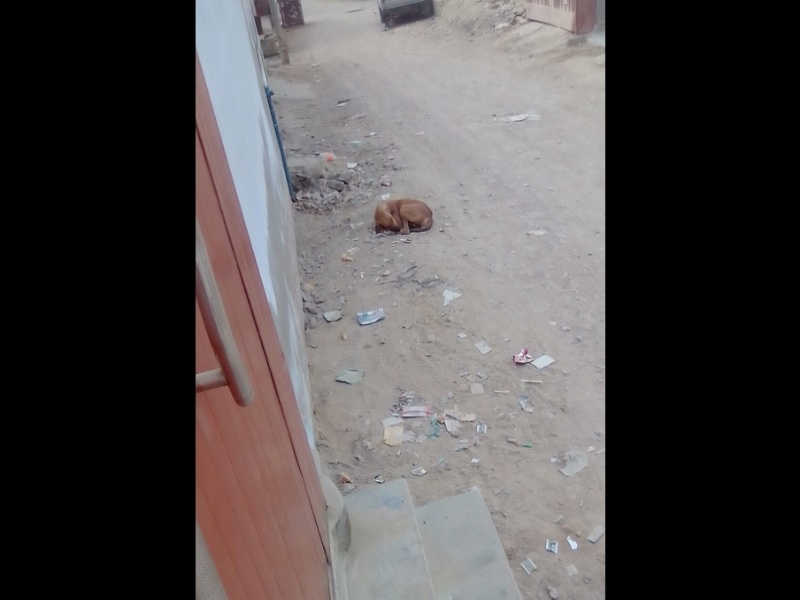dog: (371, 195, 432, 237)
